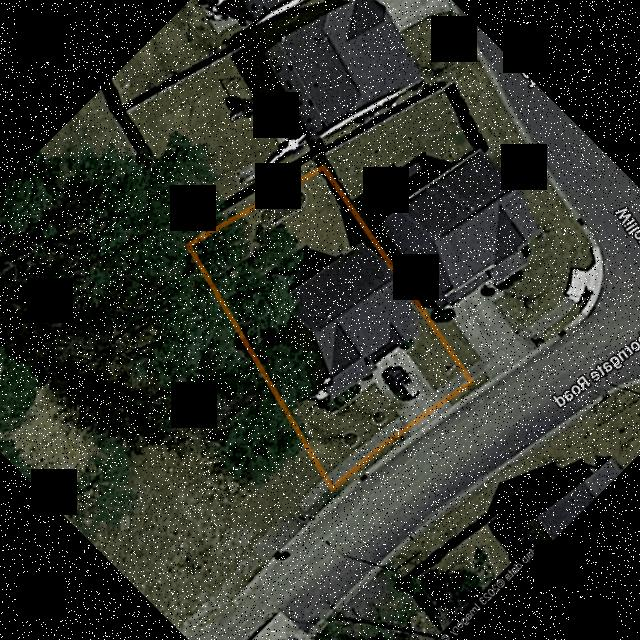Driveway: (370, 347, 440, 424)
Extra Driveway: (407, 401, 451, 435)
Extra Lawn: (331, 428, 407, 494), (442, 381, 475, 404)
Extra Sidewalk: (326, 416, 403, 483), (432, 372, 465, 399)
House: (284, 238, 427, 386)
Other: (259, 190, 305, 225)
Sidewalk: (329, 377, 372, 414)
